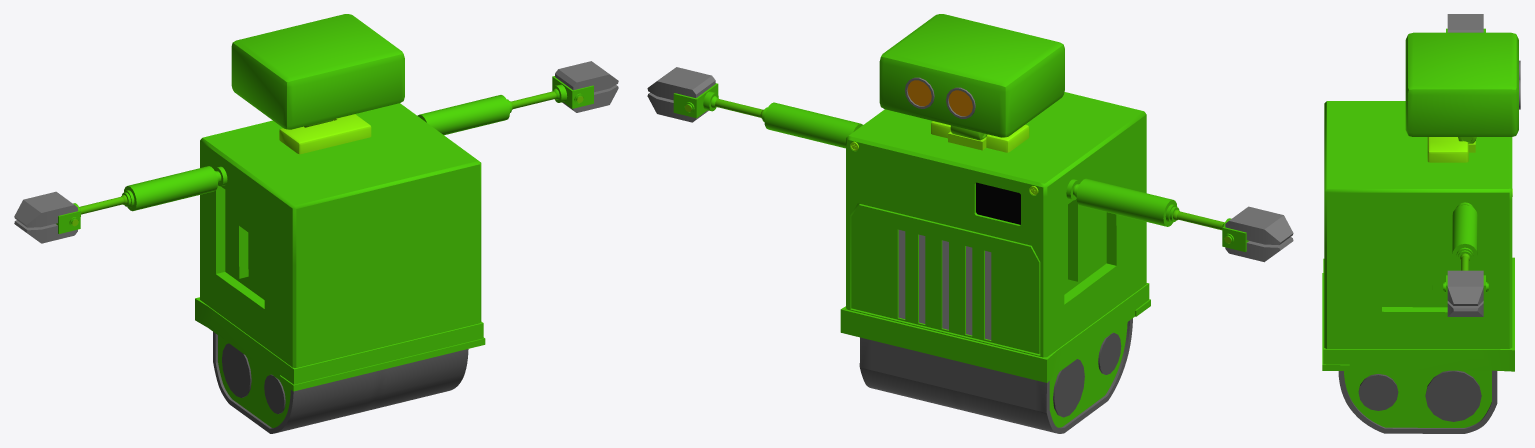
Rendered from garbage-robot.gltf.
3 views of the same model, side by side, from view 1: azimuth 30°, elevation 25°; view 2: azimuth 150°, elevation 25°; view 3: azimuth 270°, elevation 25° (orthographic). The views are drawn at different scales.
Parts seen in each view (by area): view 1: head-Mat.2 (×2), head-Mat.12, head-Mat.9, head-Mat.3, head-Mat.6, head-Mat.11; view 2: head-Mat.2 (×2), head-Mat.12, head-Mat.9, head-Mat.5, head-Mat.6, head-Mat.4, head-Mat.3, head-Mat.8, head-Mat.11; view 3: head-Mat.2 (×2), head-Mat.6, head-Mat.9, head-Mat.12, head-Mat.3.
Part boxes in pixels (bbox=[...]): head-Mat.2 (×2): bbox=[56, 14, 593, 427]; head-Mat.12: bbox=[213, 332, 468, 433]; head-Mat.9: bbox=[14, 61, 618, 243]; head-Mat.3: bbox=[279, 114, 371, 154]; head-Mat.6: bbox=[222, 343, 285, 414]; head-Mat.11: bbox=[79, 91, 556, 214]; head-Mat.2 (×2): bbox=[673, 14, 1248, 427]; head-Mat.12: bbox=[859, 318, 1132, 433]; head-Mat.9: bbox=[647, 67, 1293, 262]; head-Mat.5: bbox=[898, 230, 991, 339]; head-Mat.6: bbox=[1053, 332, 1121, 417]; head-Mat.4: bbox=[976, 182, 1020, 224]; head-Mat.3: bbox=[931, 121, 1029, 152]; head-Mat.8: bbox=[907, 80, 972, 116]; head-Mat.11: bbox=[715, 98, 1224, 230]; head-Mat.2 (×2): bbox=[1322, 28, 1518, 427]; head-Mat.6: bbox=[1358, 370, 1481, 421]; head-Mat.9: bbox=[1447, 14, 1483, 316]; head-Mat.12: bbox=[1338, 370, 1497, 433]; head-Mat.3: bbox=[1427, 137, 1475, 162].
Bounding box in the file's own units: 5.06 × 2.76 × 1.49.
